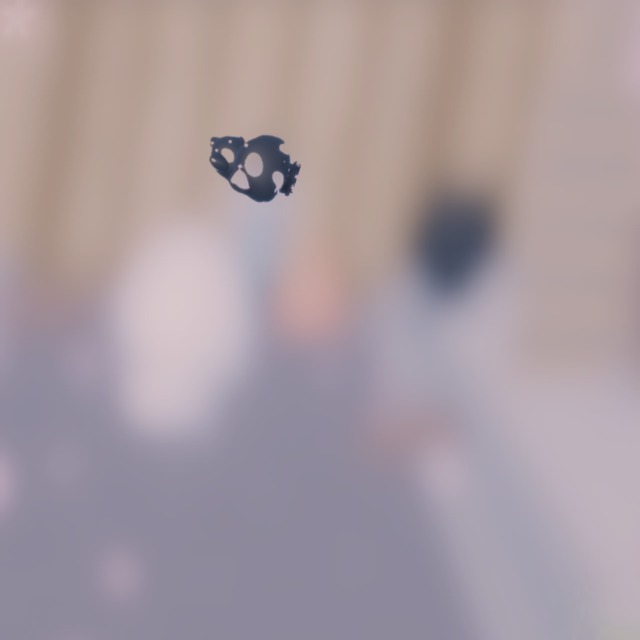urso_preto: (190, 110, 309, 214)
